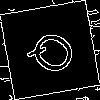Q: (25, 25, 87, 84)
